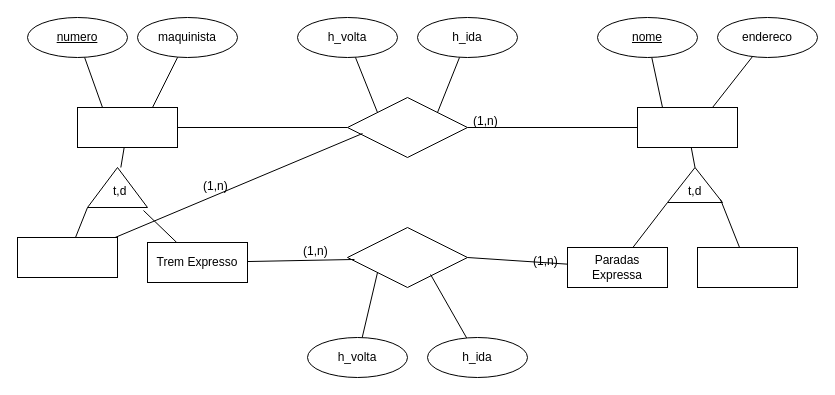
Some shapes in this 835 by 395 pixel diagram are drawn without their labels. Here are the shapes that lost their labels. From the top down, the box of each, then its label:
(76, 106, 178, 148): Trem
(346, 96, 468, 158): Para
(636, 106, 738, 148): Estacao
(16, 236, 118, 278): Trem Local
(346, 226, 468, 288): Para em
(696, 246, 798, 288): Paradas Local
